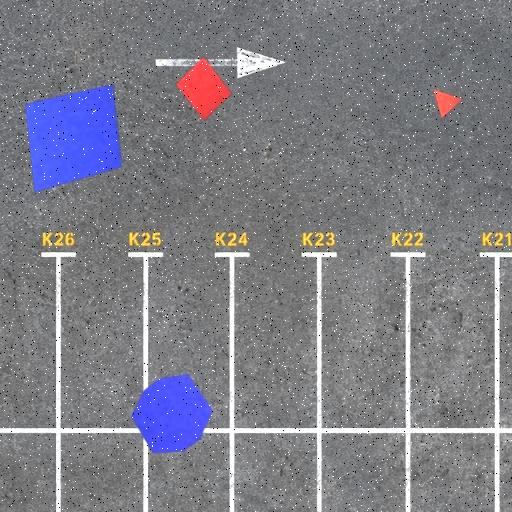BLUE_SQUARE: (25, 84, 122, 193)
RED_SQUARE: (175, 56, 233, 122)
